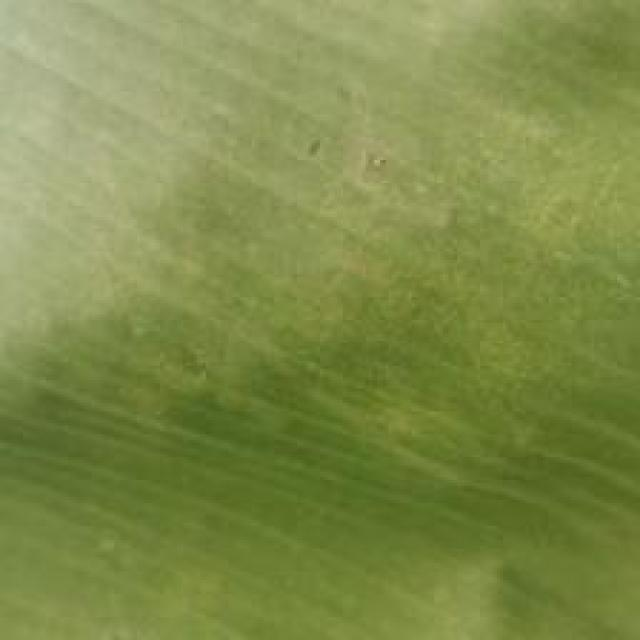Black_leaf_spot: (13, 41, 640, 637)
